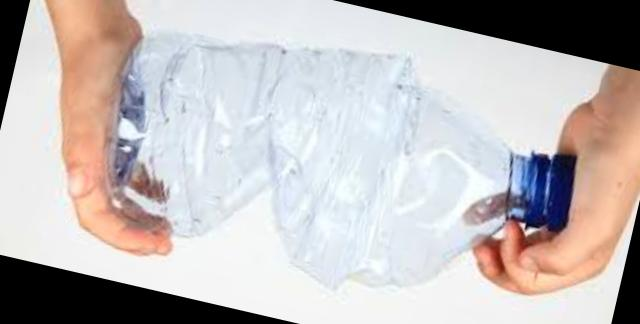plastic: (109, 37, 504, 291)
